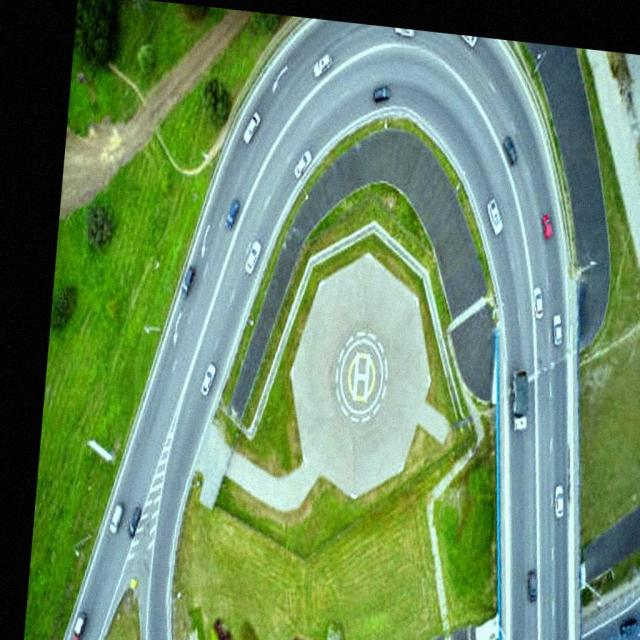helipad: (338, 336, 383, 414)
